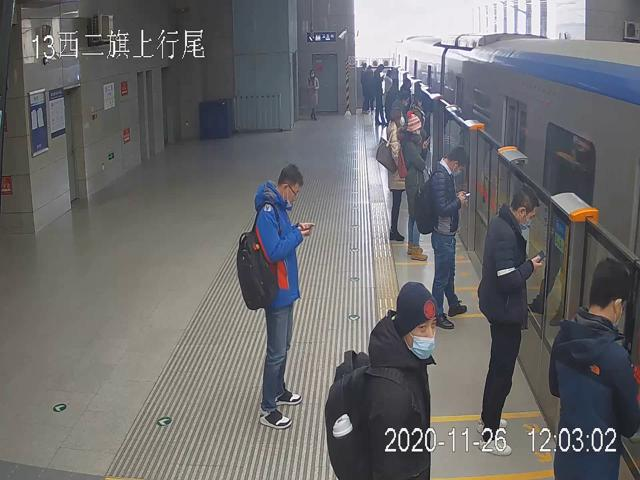person: (546, 255, 637, 480), (476, 181, 539, 456), (252, 163, 310, 430), (364, 280, 435, 480), (431, 143, 470, 332), (397, 110, 432, 262), (386, 104, 406, 244), (307, 65, 319, 119)
